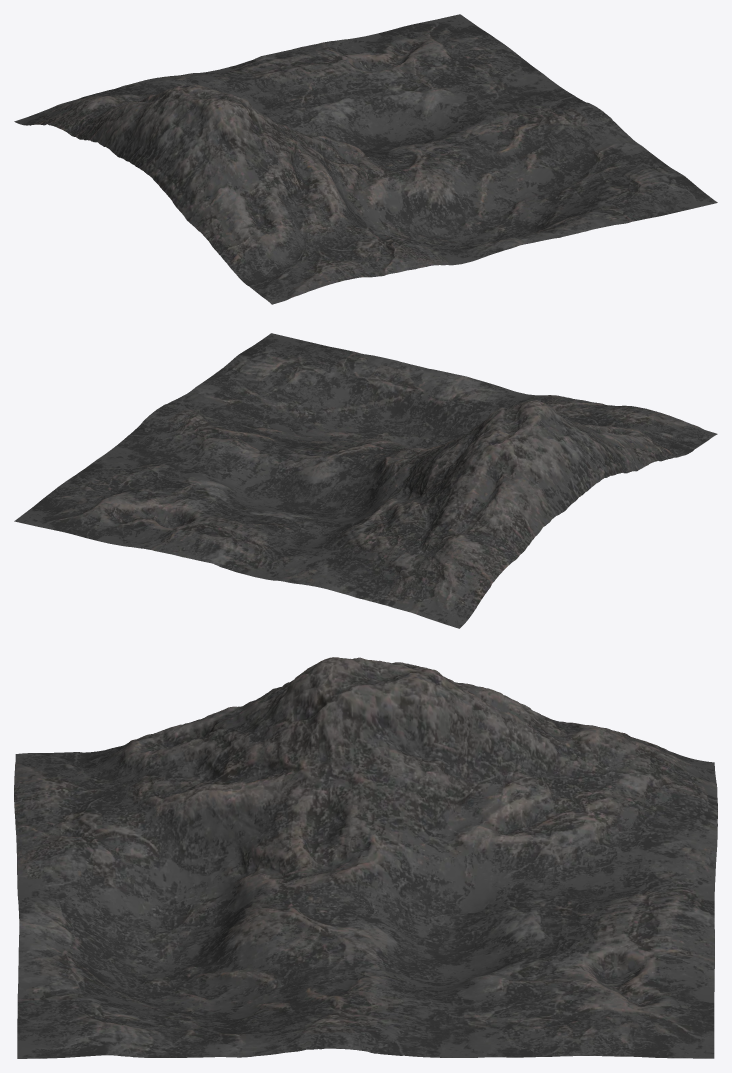
Rendered from stone__mountain (1).glb.
3 views of the same model, one above another, from view 1: azimuth 30°, elevation 25°; view 2: azimuth 150°, elevation 25°; view 3: azimuth 270°, elevation 25° (orthographic). The views are drawn at different scales.
Parts seen in each view (by area): view 1: pPlane1_standardSurface1_0; view 2: pPlane1_standardSurface1_0; view 3: pPlane1_standardSurface1_0.
Part boxes in pixels (x1,y1,x2,y2): pPlane1_standardSurface1_0: [14, 14, 717, 304]; pPlane1_standardSurface1_0: [14, 333, 717, 628]; pPlane1_standardSurface1_0: [14, 657, 717, 1058].
Size of the model in its own units: 0.7075 by 0.2072 by 0.7088.
1 material, 1 textured.
